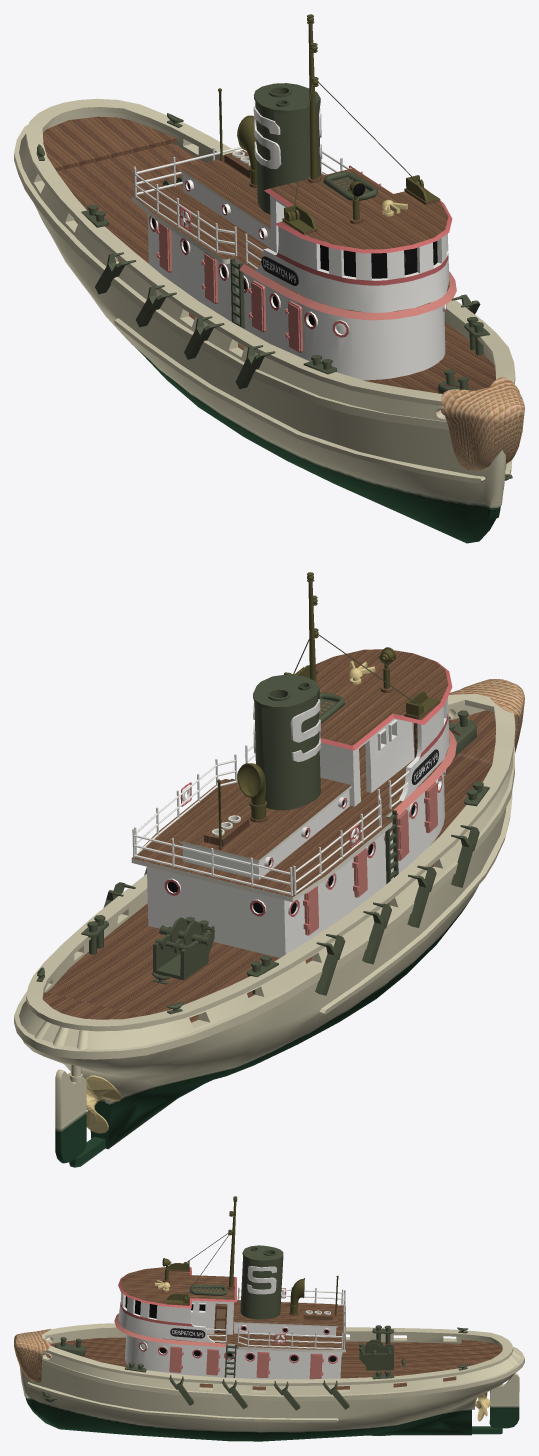
File: ship01.gltf
3 renders of one model, top to bottom at view 1: azimuth 30°, elevation 25°; view 2: azimuth 150°, elevation 25°; view 3: azimuth 270°, elevation 25°, orthographic. The views are drawn at different scales.
Parts seen in each view (by area): view 1: 轮船02; view 2: 轮船02; view 3: 轮船02.
Part boxes in pixels (x1,y1,x2,y2): 轮船02: [14, 14, 524, 543]; 轮船02: [14, 572, 524, 1167]; 轮船02: [14, 1196, 524, 1441].
Size of the model in its own units: 9.83 by 16.81 by 32.96.
Materials: 25 (7 with a texture image).
